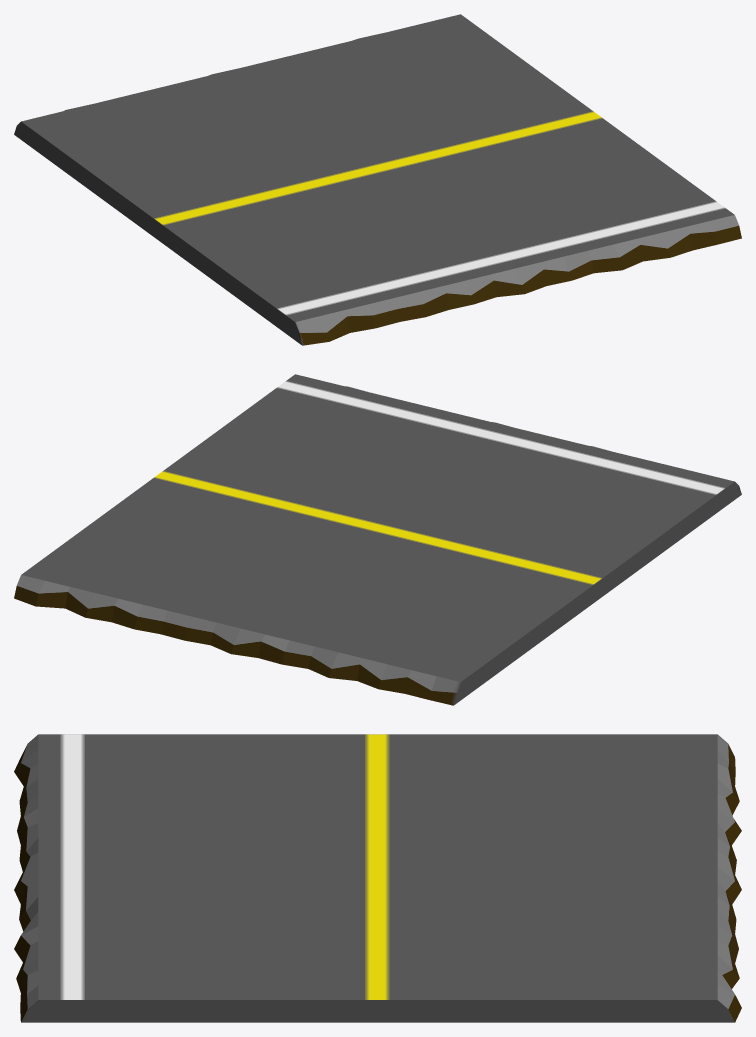
File: road.fbx
3 views of the same model, one above another, from view 1: azimuth 30°, elevation 25°; view 2: azimuth 150°, elevation 25°; view 3: azimuth 270°, elevation 25° (orthographic). The views are drawn at different scales.
Parts seen in each view (by area): view 1: road; view 2: road; view 3: road.
Boxes of the visible parts, x1=… form: road: x1=14, y1=14, x2=741, y2=345; road: x1=14, y1=374, x2=741, y2=705; road: x1=14, y1=734, x2=741, y2=1022.
Bounding box in the file's own units: 579 × 500 × 20.
